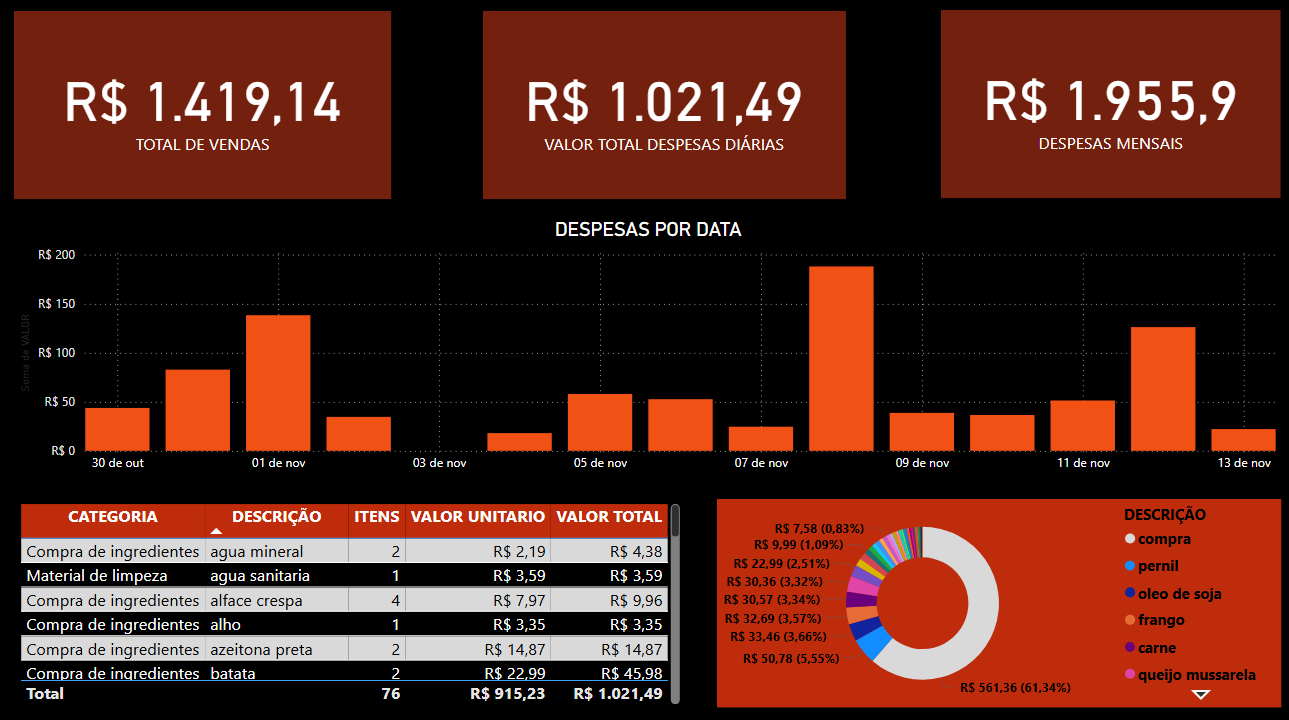

Layout of this report page (visuals, bound fields, positions):
{"tool":"powerbi","page":{"name":"Página 2","canvas":[1280,720],"ordinal":1},"visuals":[{"type":"card","fields":{"Values":["Sum(DESPESAS DIARIAS.SOMA TOTAL DA UNIDADE)"]},"box":[484.8,18.5,356.7,184.9],"z":0},{"type":"clusteredColumnChart","title":"DESPESAS POR DATA","fields":{"Category":["DESPESAS DIARIAS.DATA"],"Y":["Sum(DESPESAS DIARIAS.VALOR)"]},"box":[24.2,222.1,1245.5,259.1],"z":1000},{"type":"tableEx","fields":{"Values":["DESPESAS DIARIAS.CATEGORIA","DESPESAS DIARIAS.DESCRIÇÃO","Sum(DESPESAS DIARIAS.QUANTIDA DE ITENS)","Sum(DESPESAS DIARIAS.VALOR)","Sum(DESPESAS DIARIAS.SOMA TOTAL DA UNIDADE)"]},"box":[24.2,499,658.5,206.7],"z":2000},{"type":"donutChart","fields":{"Category":["DESPESAS DIARIAS.DESCRIÇÃO"],"Y":["Sum(DESPESAS DIARIAS.VALOR)"]},"box":[714.7,499,555.1,205.5],"z":3000},{"type":"card","fields":{"Values":["Sum(DESPESAS MENSAIS.ORÇAMENTO MENSAL)"]},"box":[935.4,17.9,334.4,185],"z":4000},{"type":"card","fields":{"Values":["Sum(RECEITAS.VALOR TOTAL)"]},"box":[23.8,18.5,371.2,184.9],"z":5000}]}

Visuals, with their boxes in screenshot pixels (x1, y1, x2, y2), scaled from the page's 1280x720 canvas onto the 1289x720 screenshot:
card - Sum(DESPESAS DIARIAS.SOMA TOTAL DA UNIDADE): select_region(488, 18, 847, 203)
"DESPESAS POR DATA" clusteredColumnChart: select_region(24, 222, 1279, 481)
tableEx - DESPESAS DIARIAS.CATEGORIA x DESPESAS DIARIAS.DESCRIÇÃO: select_region(24, 499, 688, 706)
donutChart - DESPESAS DIARIAS.DESCRIÇÃO x Sum(DESPESAS DIARIAS.VALOR): select_region(720, 499, 1279, 704)
card - Sum(DESPESAS MENSAIS.ORÇAMENTO MENSAL): select_region(942, 18, 1279, 203)
card - Sum(RECEITAS.VALOR TOTAL): select_region(24, 18, 398, 203)
